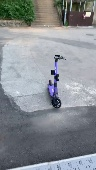beam: (46, 53, 68, 109)
